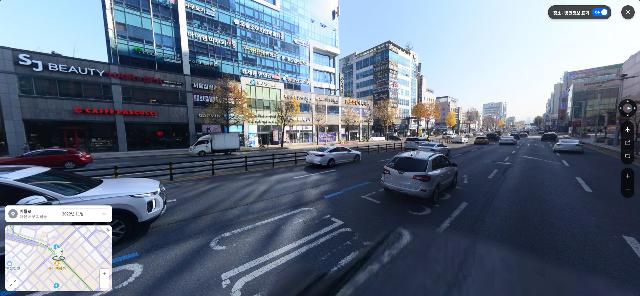ginkgo: (196, 72, 259, 134), (267, 87, 307, 147), (367, 99, 399, 140), (337, 100, 365, 143), (444, 111, 456, 134)
other: (586, 91, 625, 147), (307, 96, 341, 145), (411, 102, 443, 137), (562, 108, 586, 139), (464, 110, 480, 133), (483, 115, 495, 132), (495, 119, 505, 131)
